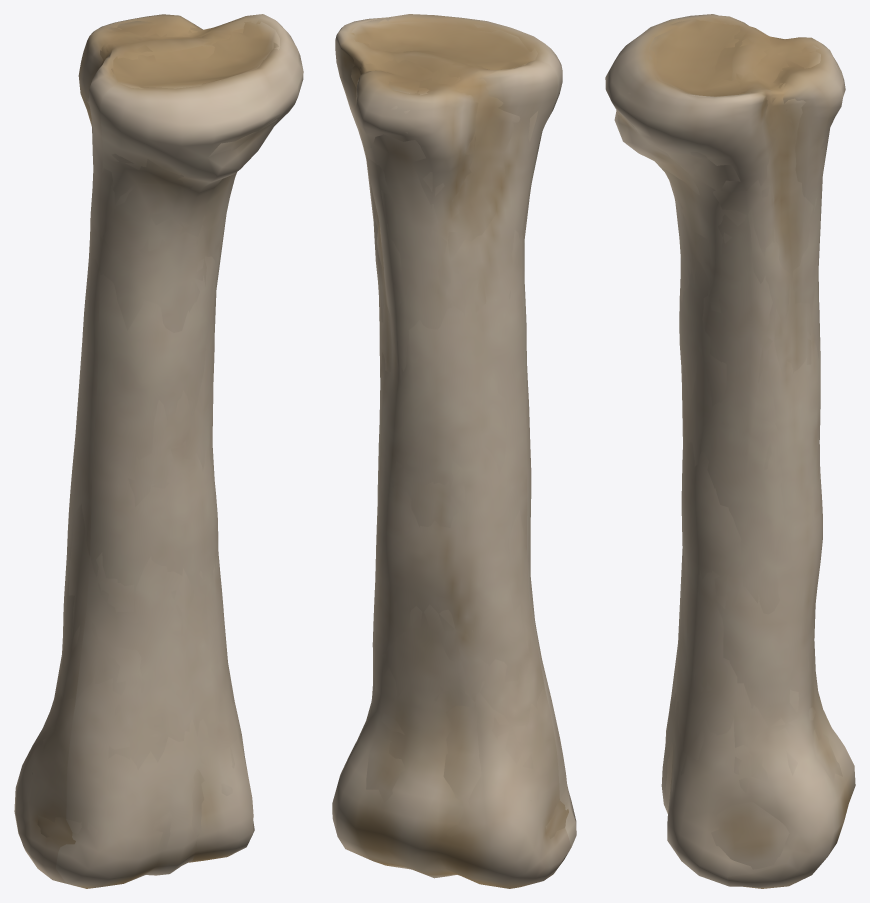
File: L metatarsi tertium.fbx
The picture shows the model from 3 angles, left to right: view 1: azimuth 30°, elevation 25°; view 2: azimuth 150°, elevation 25°; view 3: azimuth 270°, elevation 25°; orthographic projection. The views are drawn at different scales.
Parts seen in each view (by area): view 1: L metatarsi tertium, L metatarsi tertium low; view 2: L metatarsi tertium, L metatarsi tertium low; view 3: L metatarsi tertium, L metatarsi tertium low.
Part boxes in pixels (x1,y1,x2,y2): L metatarsi tertium: (14, 14, 303, 888); L metatarsi tertium low: (32, 21, 280, 874); L metatarsi tertium: (332, 14, 576, 888); L metatarsi tertium low: (351, 17, 568, 875); L metatarsi tertium: (605, 14, 855, 888); L metatarsi tertium low: (616, 19, 842, 869).
Bounding box in the file's own units: 8.53 × 28.36 × 7.85.
1 material, 1 textured.
